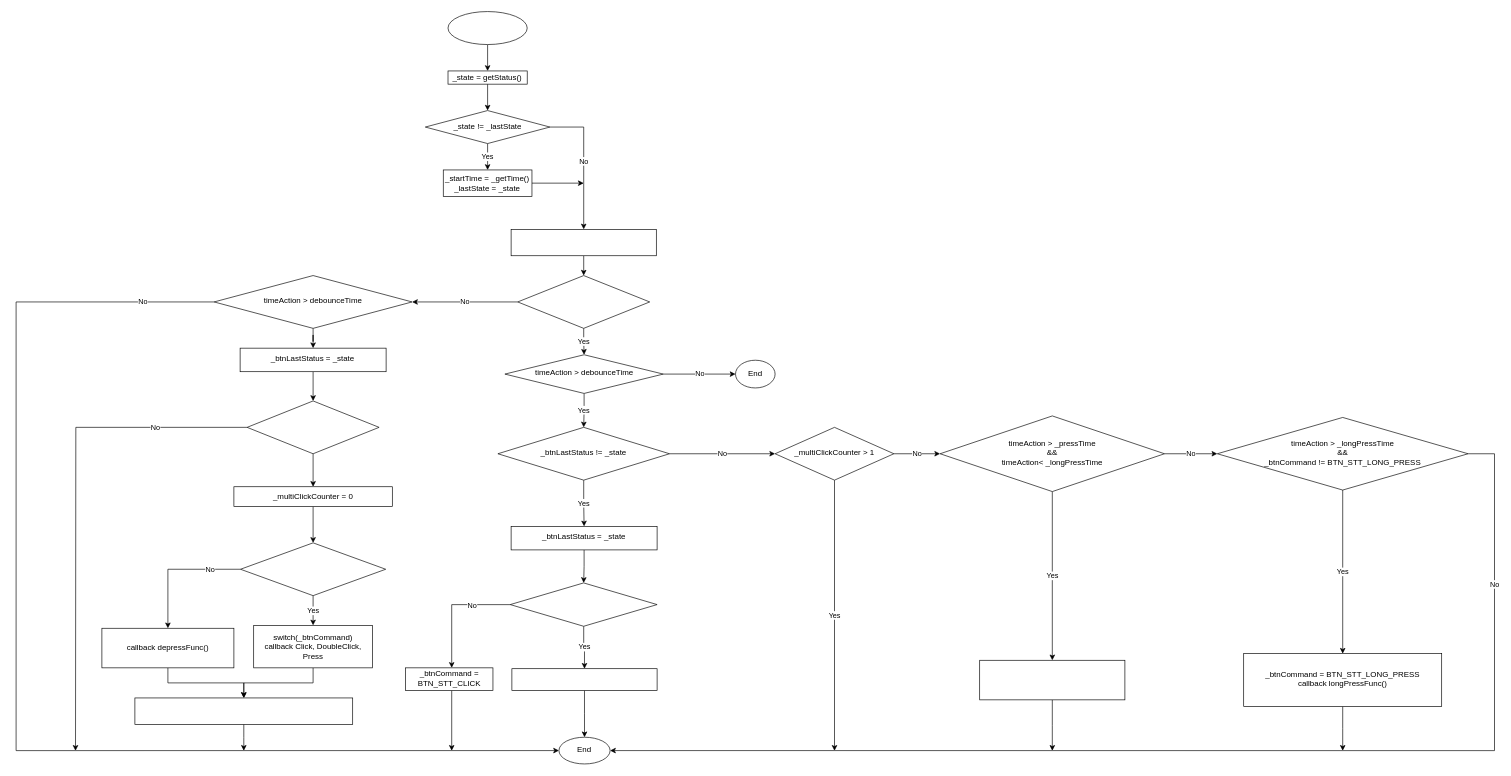
The diagram is 1511 pixels wide and 776 high, and some of its shapes have lost their labels. Each missing label, with the centre of its shape:
"++_multiClickCounter > 1" goes at pixel 583 604.
"_btnCommand != BTN_STT_LONG_PRESS" goes at pixel 313 569.
"_btnCommand = BTN_STT_BOUBLE_CLICK" goes at pixel 584 679.
"_btnCommand = BTN_STT_PRESS" goes at pixel 1052 680.
"_btnCommand = BTN_STT_UNKNOWN" goes at pixel 243 710.
"_state = _activeLevel?" goes at pixel 583 301.
"Start" goes at pixel 487 28.
"timeAction = _getTime() - _startTime" goes at pixel 583 242.
"timeAction > TimeEndAction?" goes at pixel 312 427.
